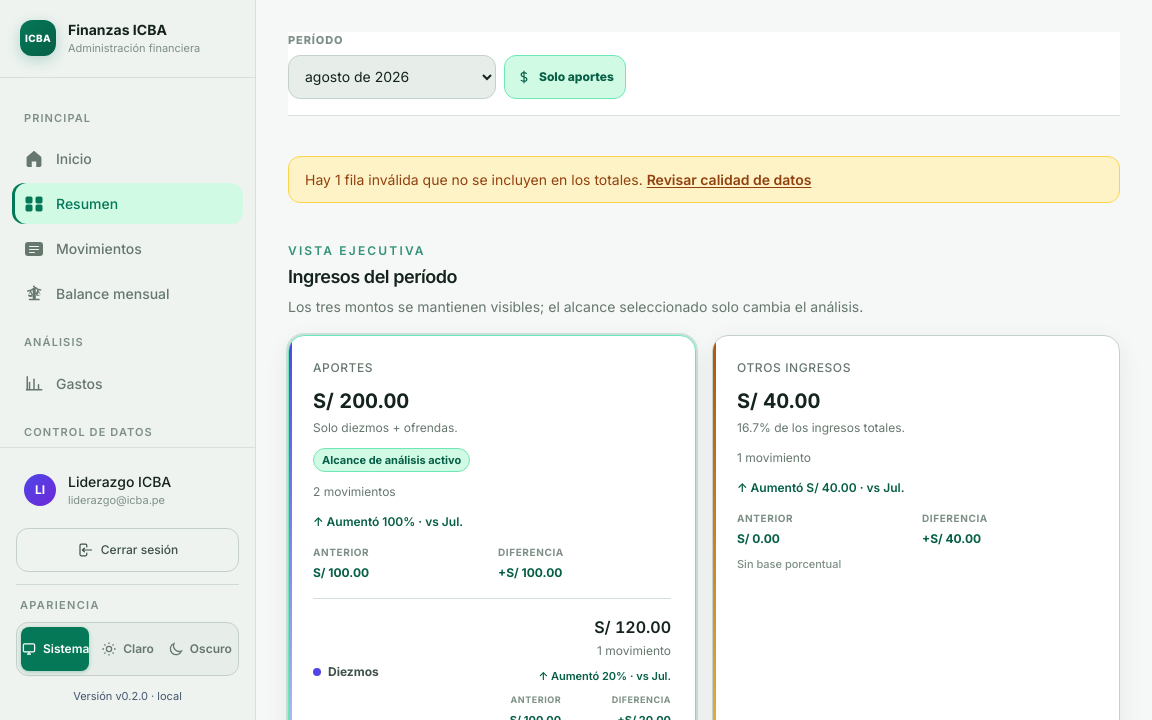
Test: navegación principal › mantiene un único alcance global en la URL y no vuelve a consultar al alternarlo
Expected: the message shows "Hay 1 fila inválida que no se incluyen en los totales.", top-left (288, 156), bottom-right (1120, 202)
Expected: the text "Aportes" is shown, top-left (313, 360), bottom-right (373, 374)
Click the button with aria-label "Filtrar por solo aportes: diezmos y ofrendas" at (565, 76), box top-left (504, 54), bottom-right (626, 98)
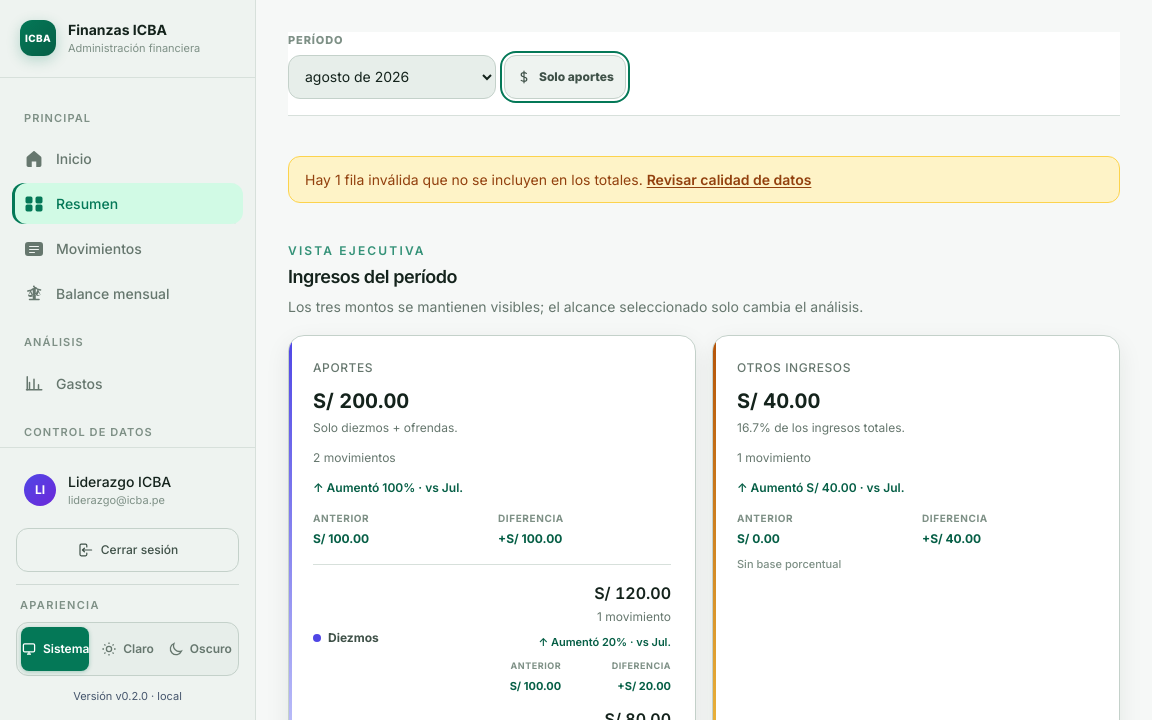
Expected: the text "Aportes" is shown, top-left (313, 360), bottom-right (373, 374)
Expected: the button with aria-label "Filtrar por solo aportes: diezmos y ofrendas" is not pressed, top-left (504, 54), bottom-right (626, 98)
Select "julio de 2026" in the dropdown labelled "Período" at (392, 76), box top-left (288, 54), bottom-right (496, 98)
(page scrolled)
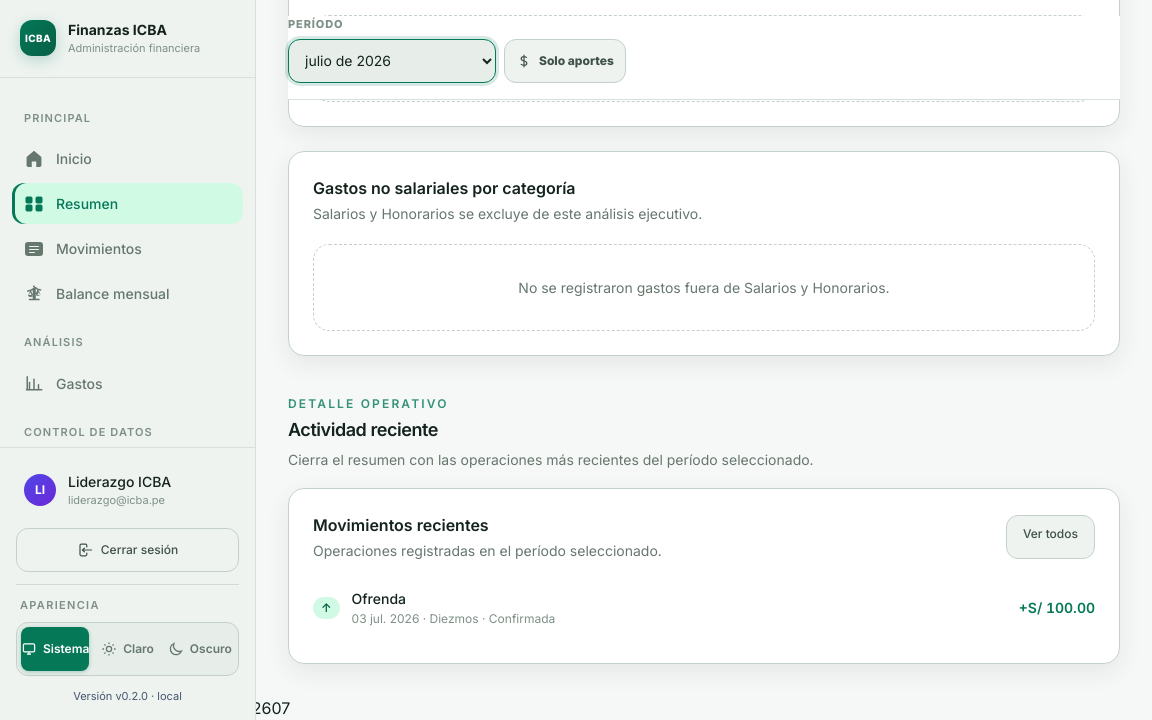
Expected: the text with test id "location" shows "income=all", top-left (0, 698), bottom-right (290, 718)
Expected: the text with test id "location" shows "period=202607", top-left (0, 698), bottom-right (290, 718)
